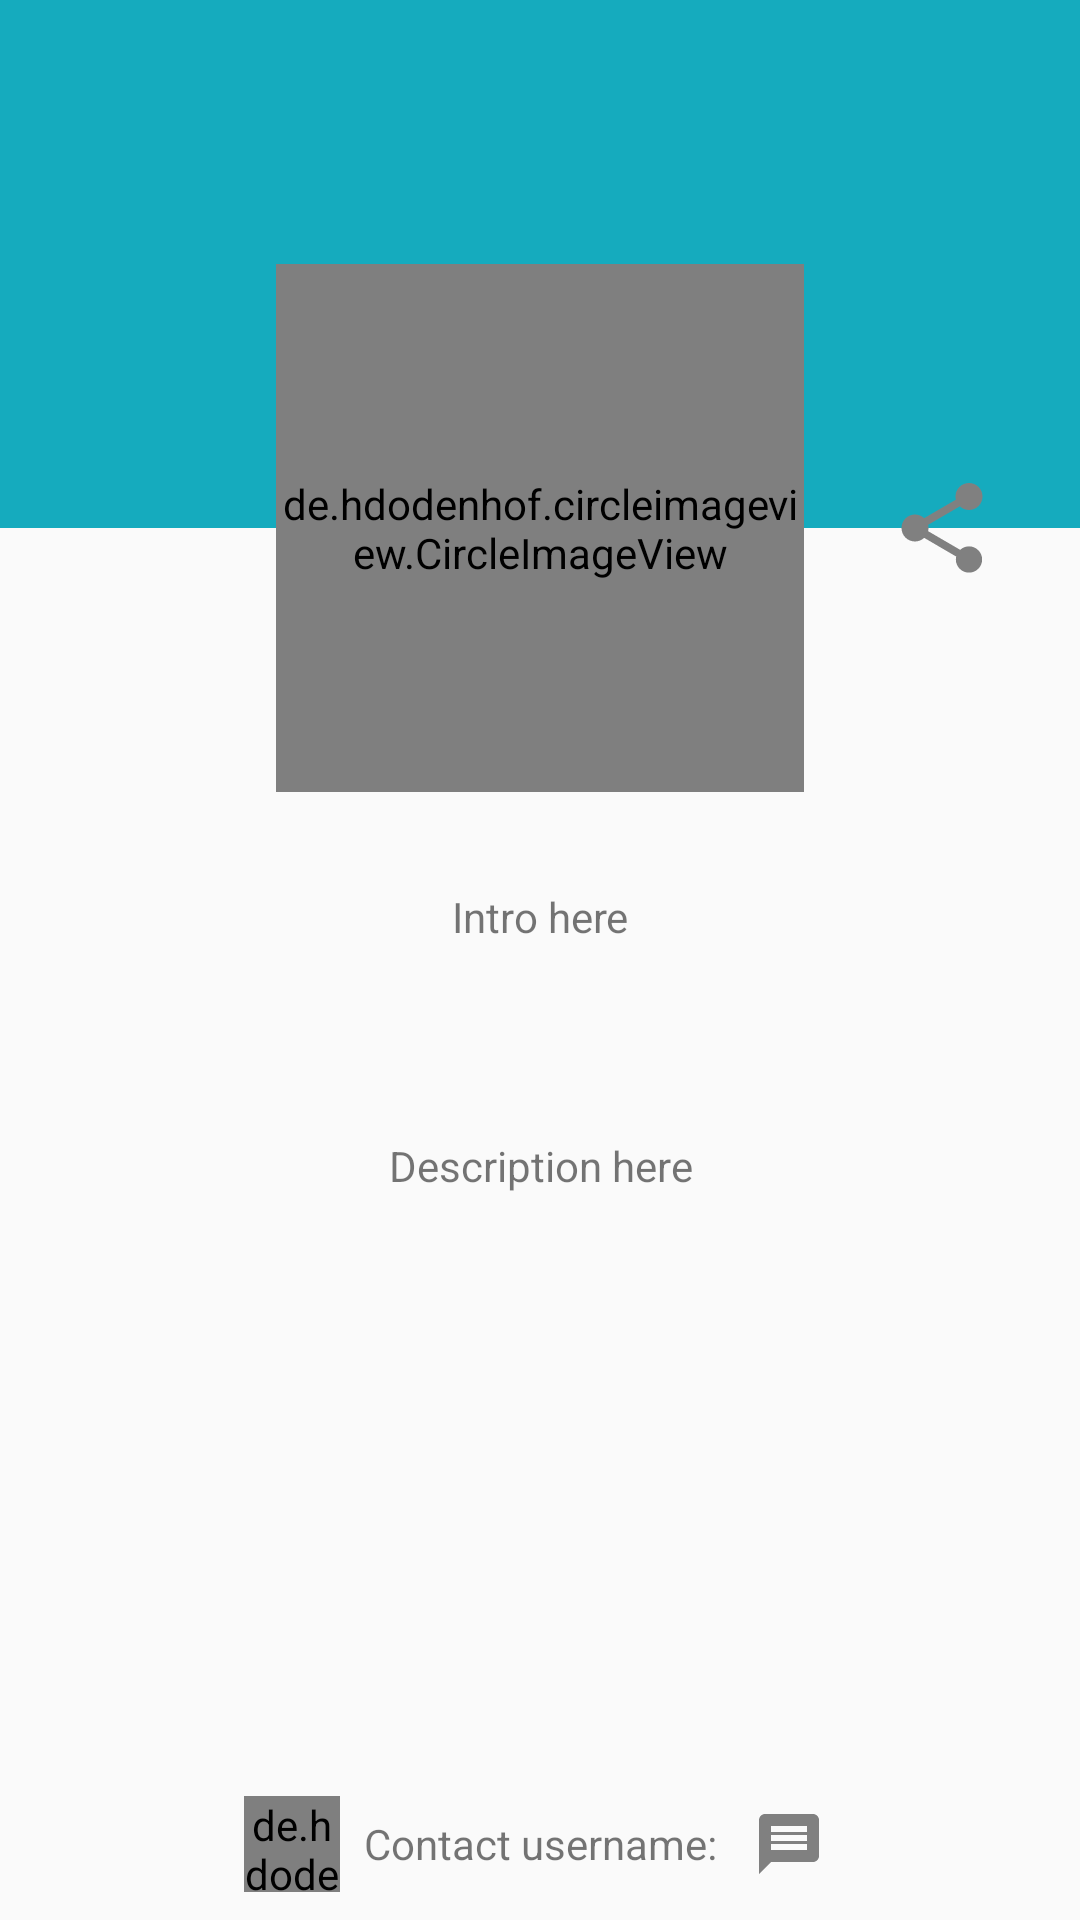

Screen size 1080px x 1920px. Icon name, then its center in pixels as (x,y):
message: (789,1844)
share: (942,528)
